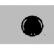correct: (20, 14, 44, 40)
